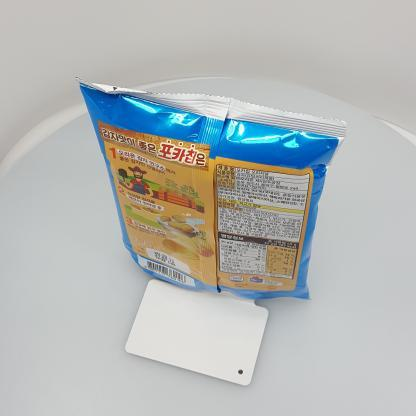Plastic Packaging: (60, 47, 350, 328)
